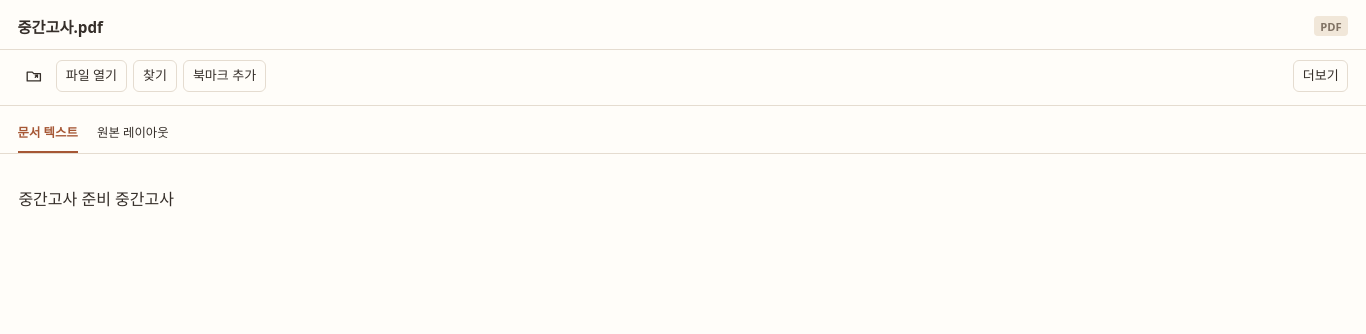
secure document preview › supports keyboard navigation and restores focus when the more menu closes
Check: the text "중간고사.pdf" is shown, box [18,17,103,37]
Click the button "더보기": (1321, 76) [1293,60,1348,92]
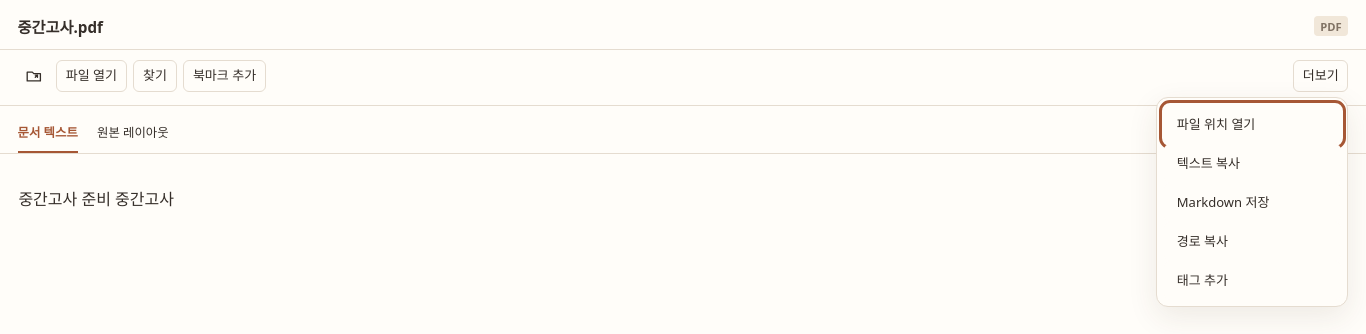
Press End
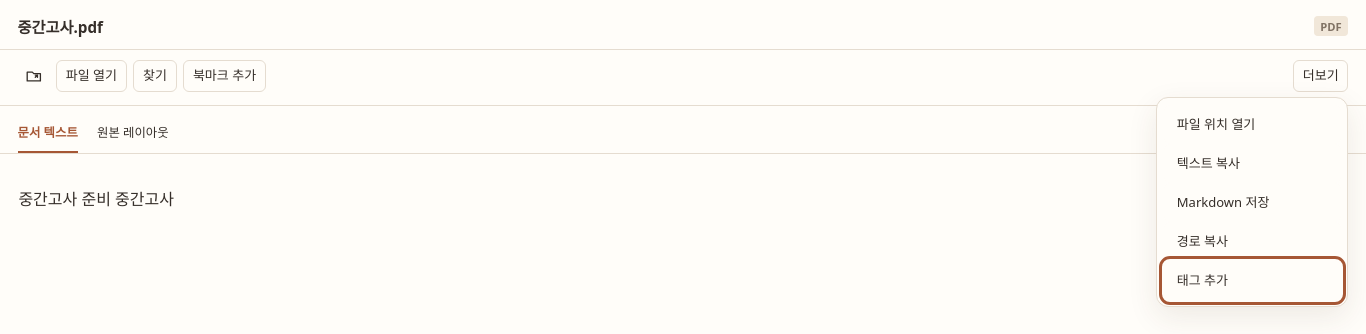
Press ArrowDown
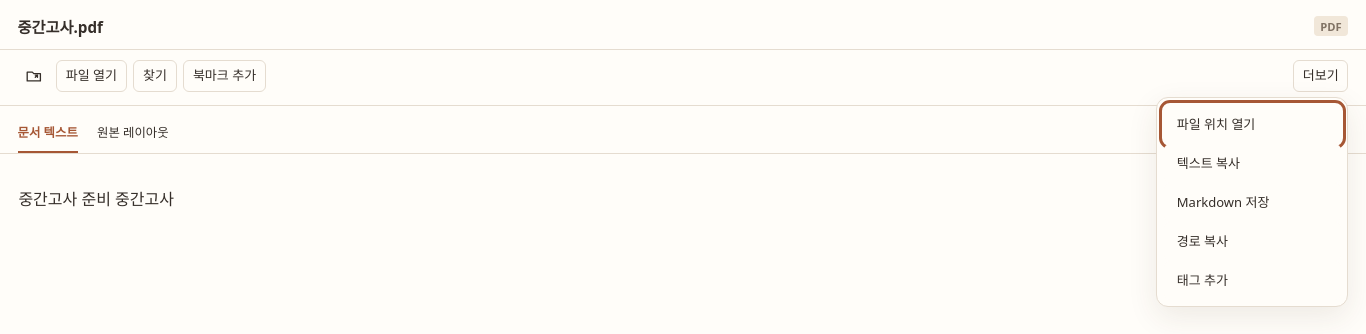
Press Escape
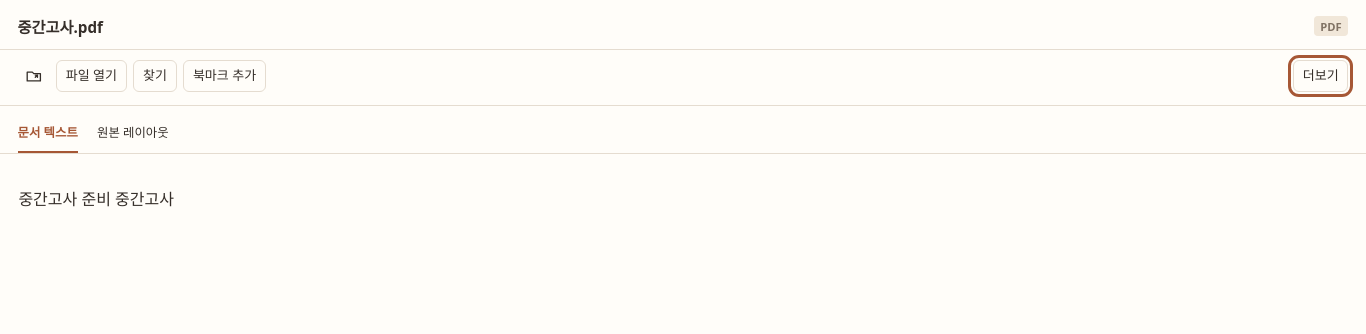
Check: the menu is gone
